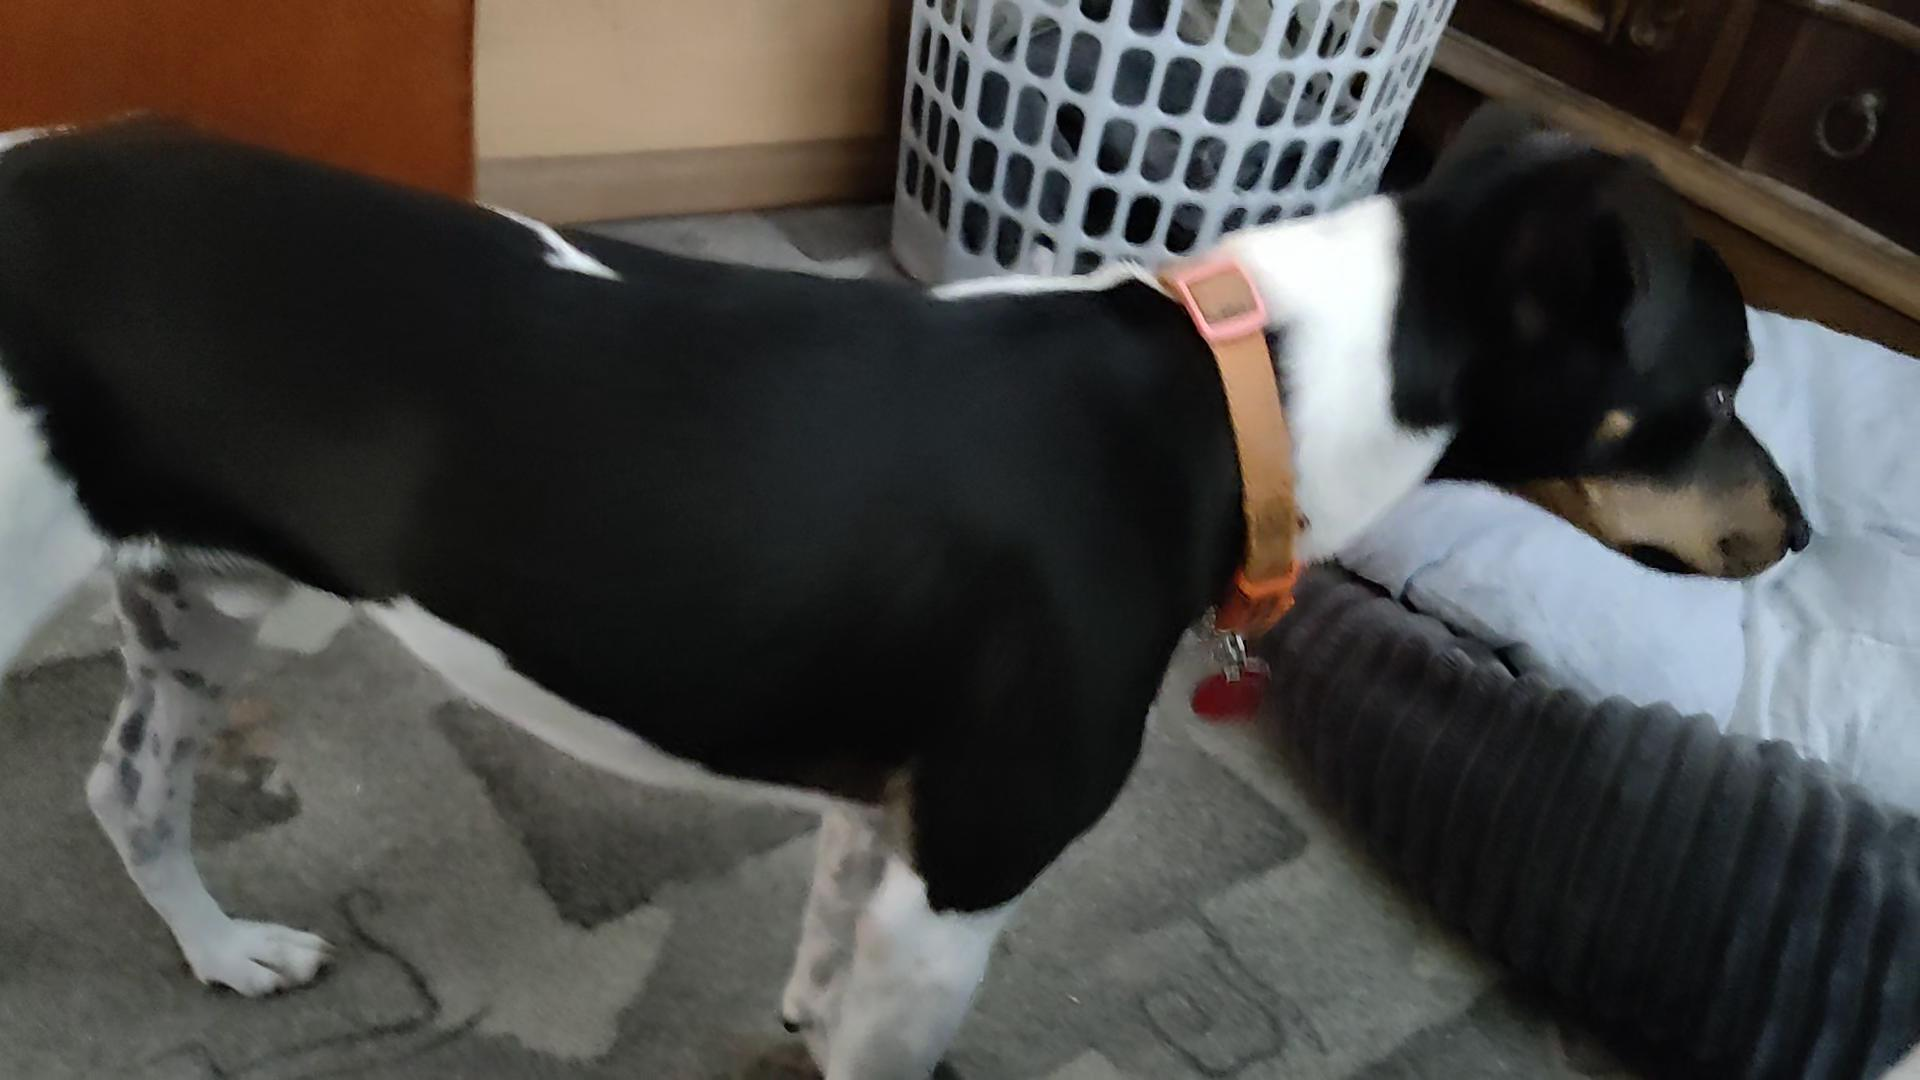Dog: (0, 80, 1826, 1079)
